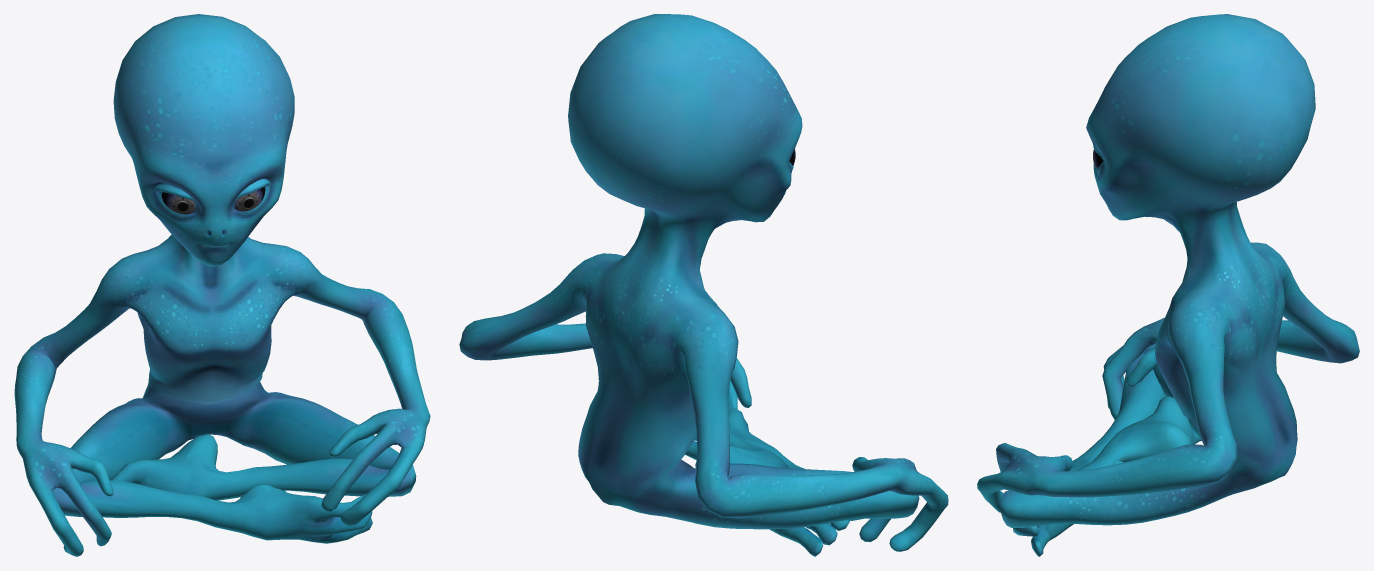
Rendered from alien-transformed.glb.
3 views of the same model, side by side, from view 1: azimuth 30°, elevation 25°; view 2: azimuth 150°, elevation 25°; view 3: azimuth 270°, elevation 25° (orthographic). The views are drawn at different scales.
Parts seen in each view (by area): view 1: node_id5_Material_50_0; view 2: node_id5_Material_50_0; view 3: node_id5_Material_50_0.
Boxes of the visible parts, <box> form: node_id5_Material_50_0: <box>14,14,430,556</box>; node_id5_Material_50_0: <box>459,14,948,556</box>; node_id5_Material_50_0: <box>977,14,1359,556</box>.
Size of the model in its own units: 0.4137 by 0.4731 by 0.3299.
Materials: 1 (1 with a texture image).
